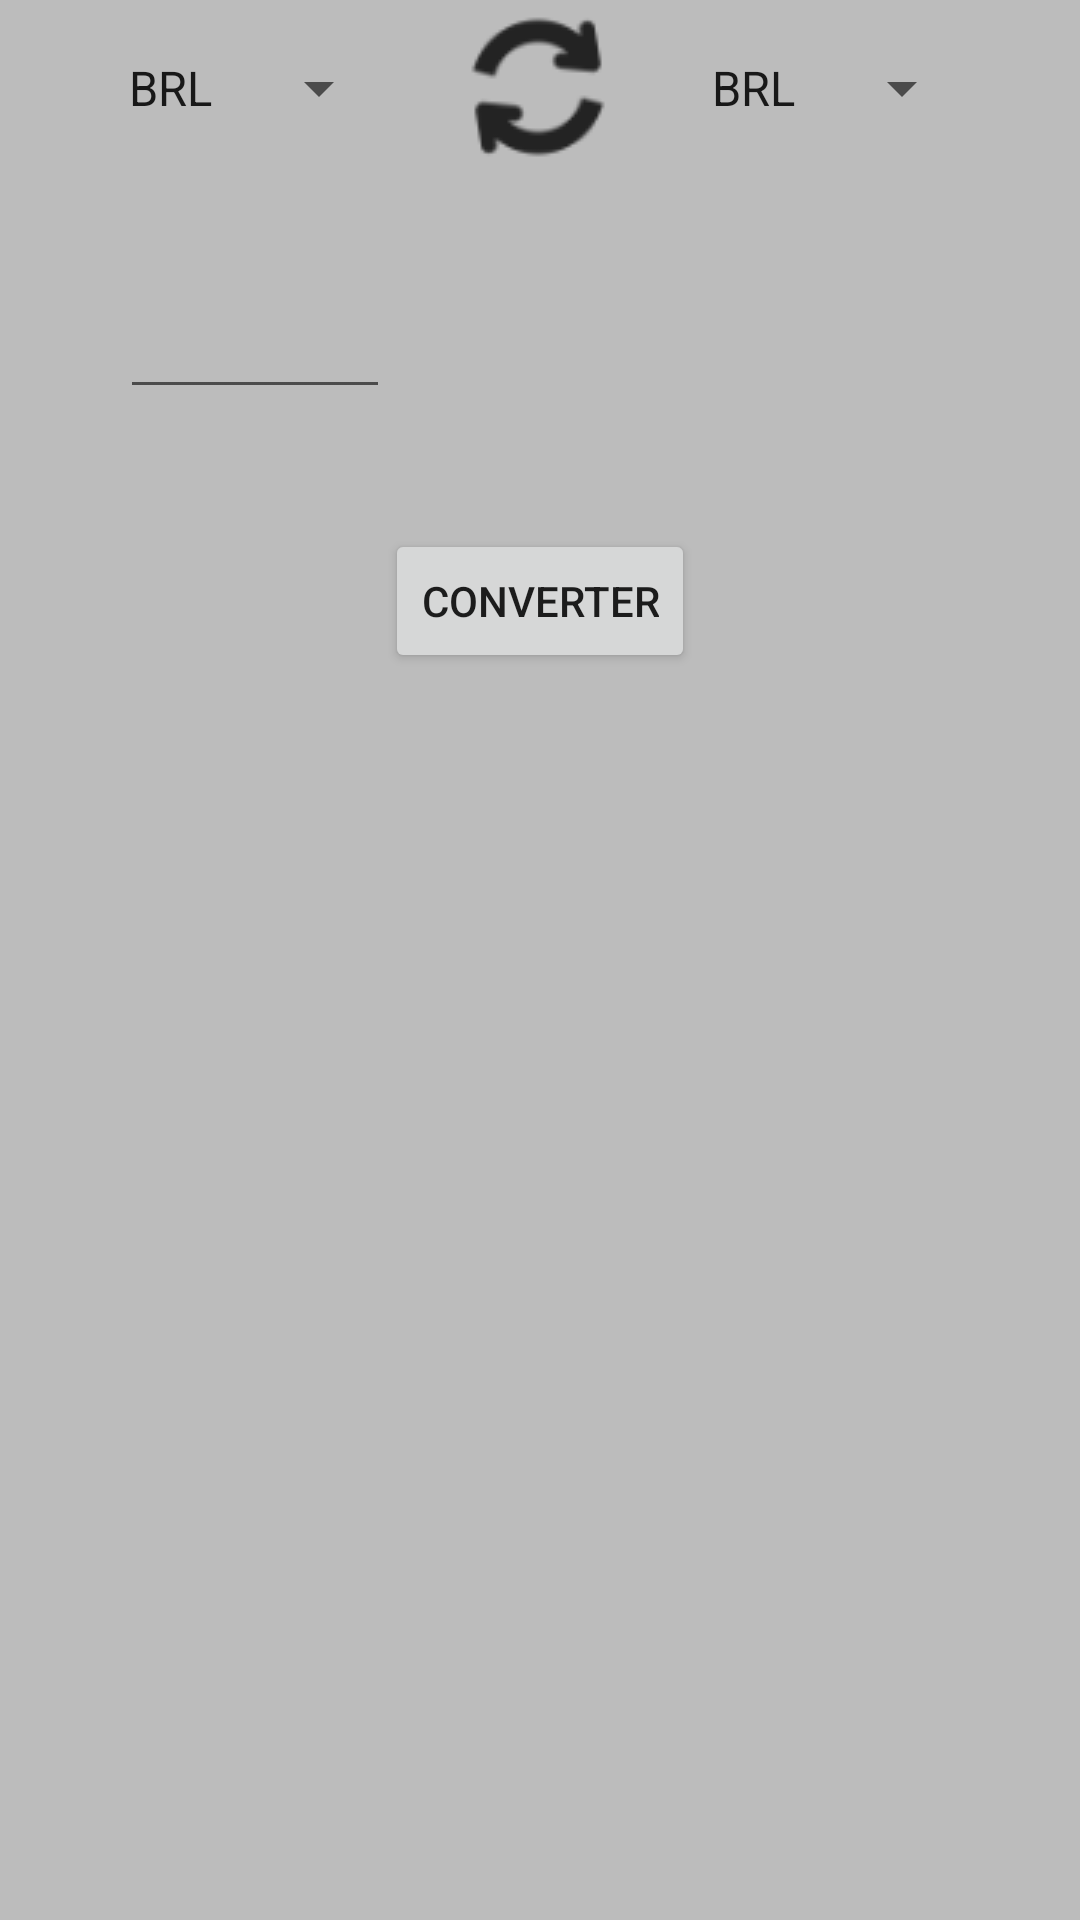

Icon click points for this 1080px x 1920px phone screenshot, format [x,y]:
troca: [538,87]
